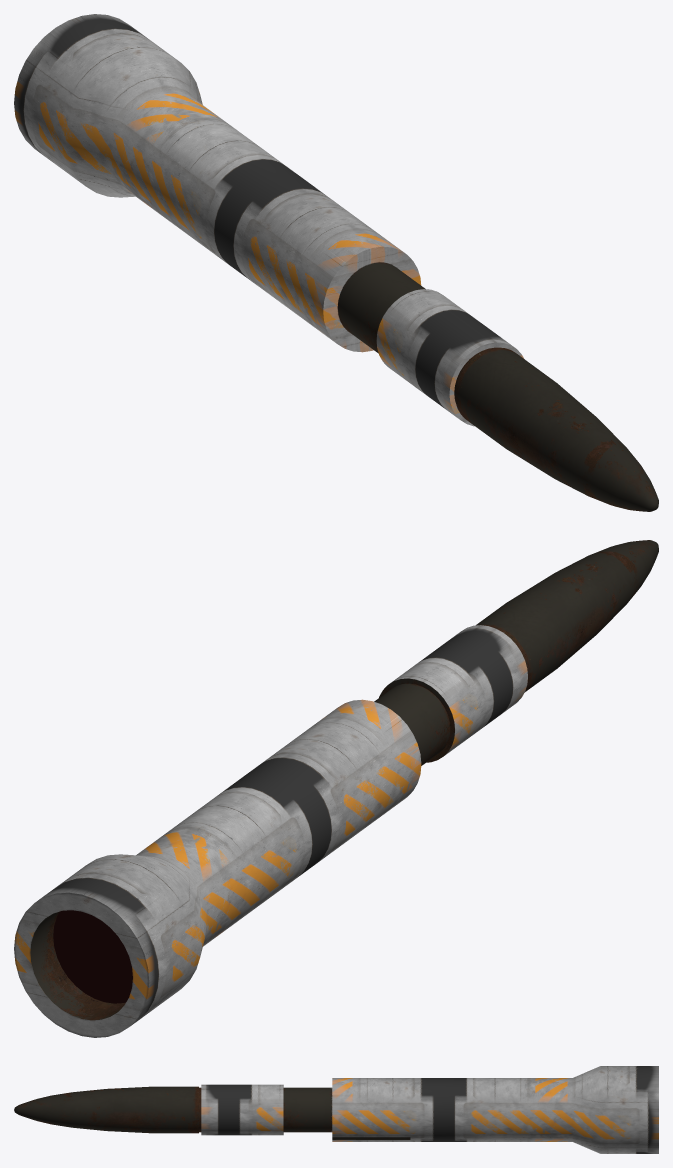
Rendered from rocket_01.fbx.
3 renders of one model, top to bottom at view 1: azimuth 30°, elevation 25°; view 2: azimuth 150°, elevation 25°; view 3: azimuth 270°, elevation 25°, orthographic. The views are drawn at different scales.
Visible parts, largest first — view 1: StandardRocket; view 2: StandardRocket; view 3: StandardRocket.
Part boxes in pixels (x1,y1,x2,y2): StandardRocket: (14,14,658,511); StandardRocket: (14,540,658,1037); StandardRocket: (14,1066,658,1153).
Size of the model in its own units: 20.16 by 20.16 by 148.
1 material, 1 textured.
